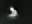person: (9, 7, 19, 20)
